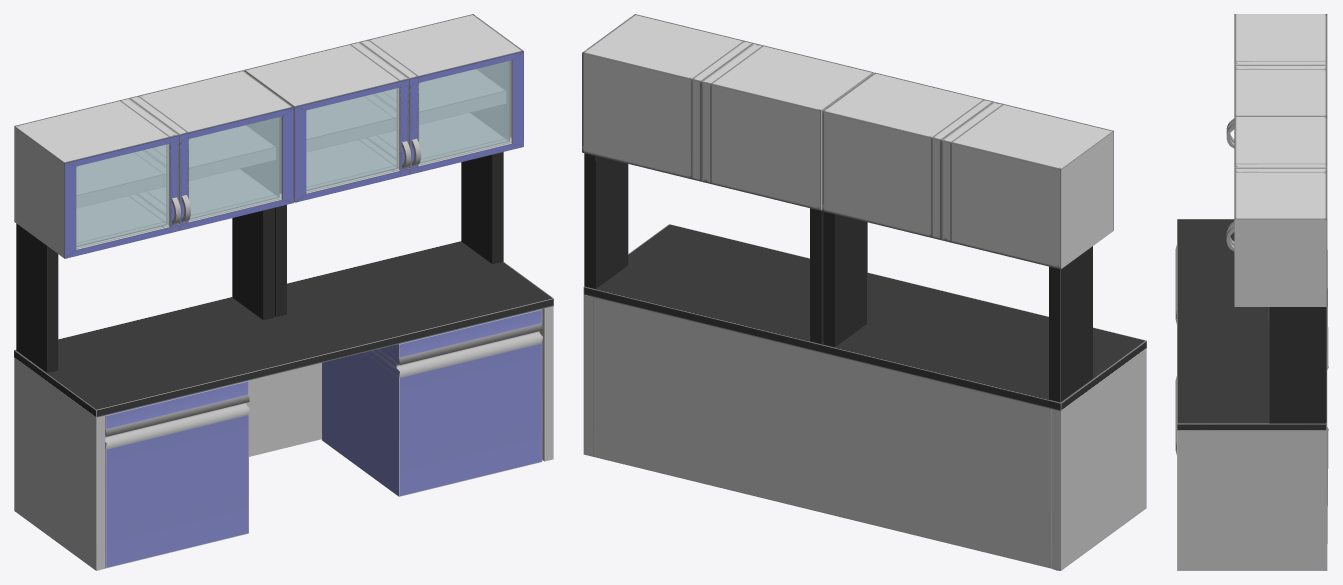
File: Desk02_ver1.fbx
3 renders of one model, left to right at view 1: azimuth 30°, elevation 25°; view 2: azimuth 150°, elevation 25°; view 3: azimuth 270°, elevation 25°, orthographic. The views are drawn at different scales.
Parts seen in each view (by area): view 1: polySurface14; view 2: polySurface14; view 3: polySurface14.
Part boxes in pixels (left/top/right/bottom): polySurface14: left=14, top=14, right=553, bottom=570; polySurface14: left=582, top=14, right=1146, bottom=570; polySurface14: left=1175, top=14, right=1328, bottom=570.
Bounding box in the file's own units: 5016 × 4016 × 1580.
Materials: 5 (5 with a texture image).
